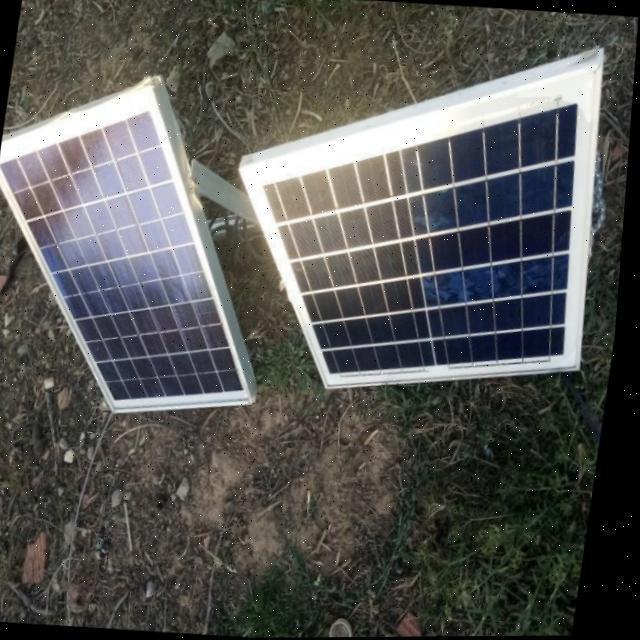Normal Solar Panel: (216, 37, 624, 408), (0, 75, 298, 420)
